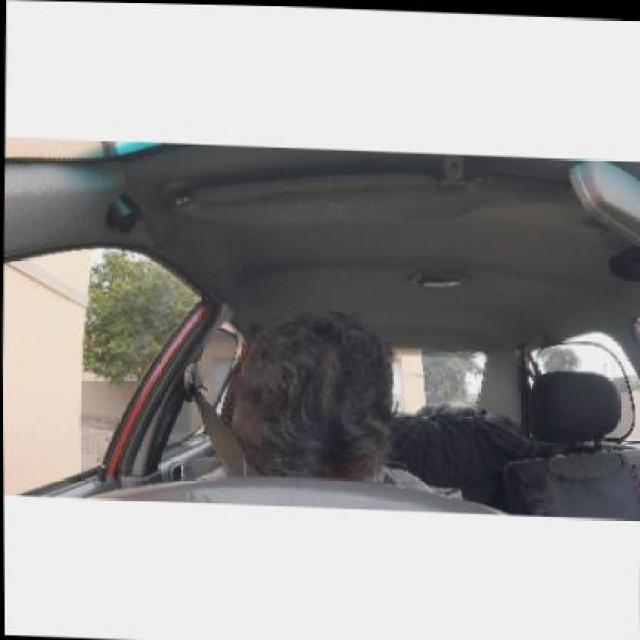drowsy: (226, 302, 419, 486)
